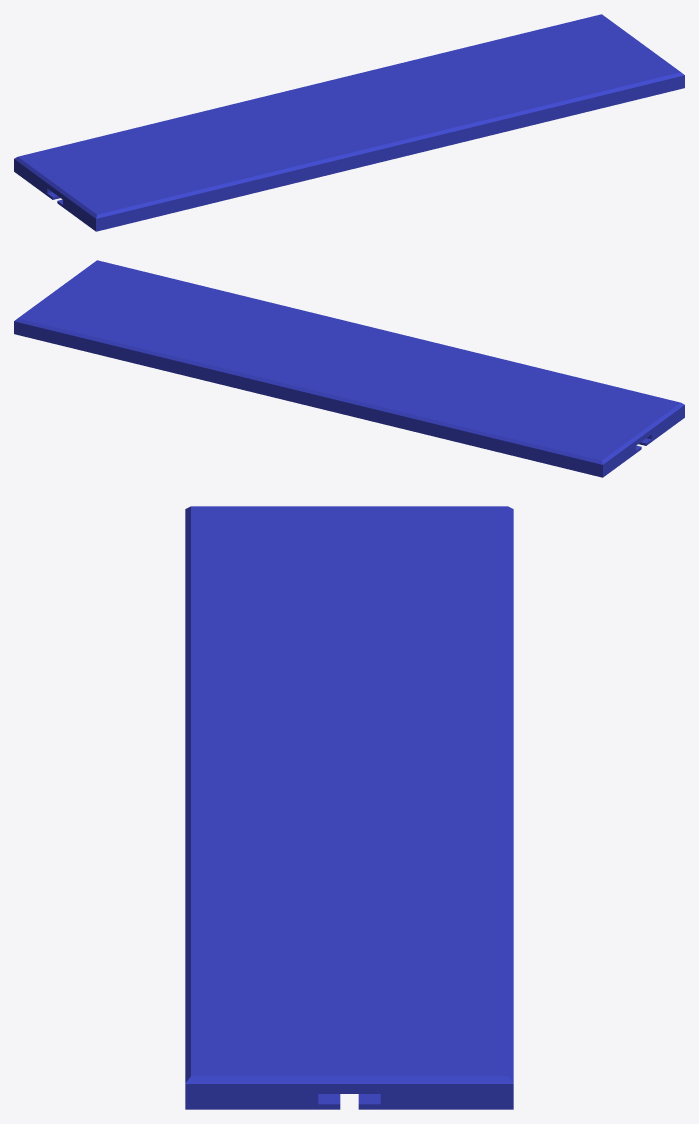
The picture shows the model from 3 angles, top to bottom: view 1: azimuth 30°, elevation 25°; view 2: azimuth 150°, elevation 25°; view 3: azimuth 270°, elevation 25°; orthographic projection. The views are drawn at different scales.
Parts seen in each view (by area): view 1: 3MFMeshParent_680; view 2: 3MFMeshParent_680; view 3: 3MFMeshParent_680.
Part boxes in pixels (box(x1,y1,x2,y2)): 3MFMeshParent_680: box(14, 14, 684, 231); 3MFMeshParent_680: box(14, 260, 684, 477); 3MFMeshParent_680: box(185, 506, 513, 1109).
Bounding box in the file's own units: 1.2 × 0.03 × 0.29.
